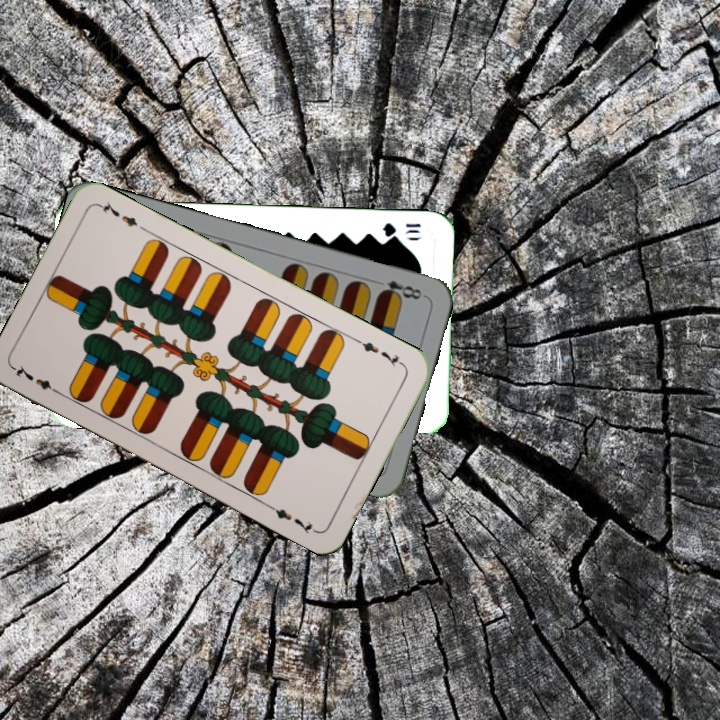E7: (10, 362, 65, 398), (353, 335, 407, 370)
E8: (375, 276, 428, 303)
G10: (379, 219, 423, 239)
